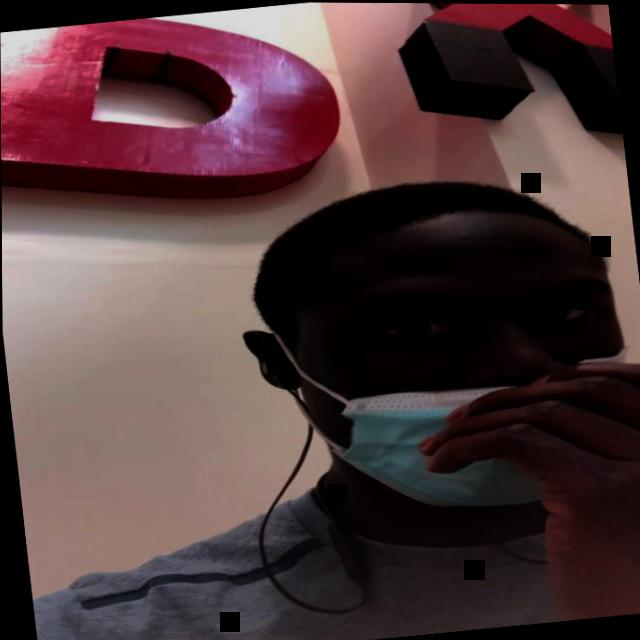Mask: (262, 220, 640, 530)
